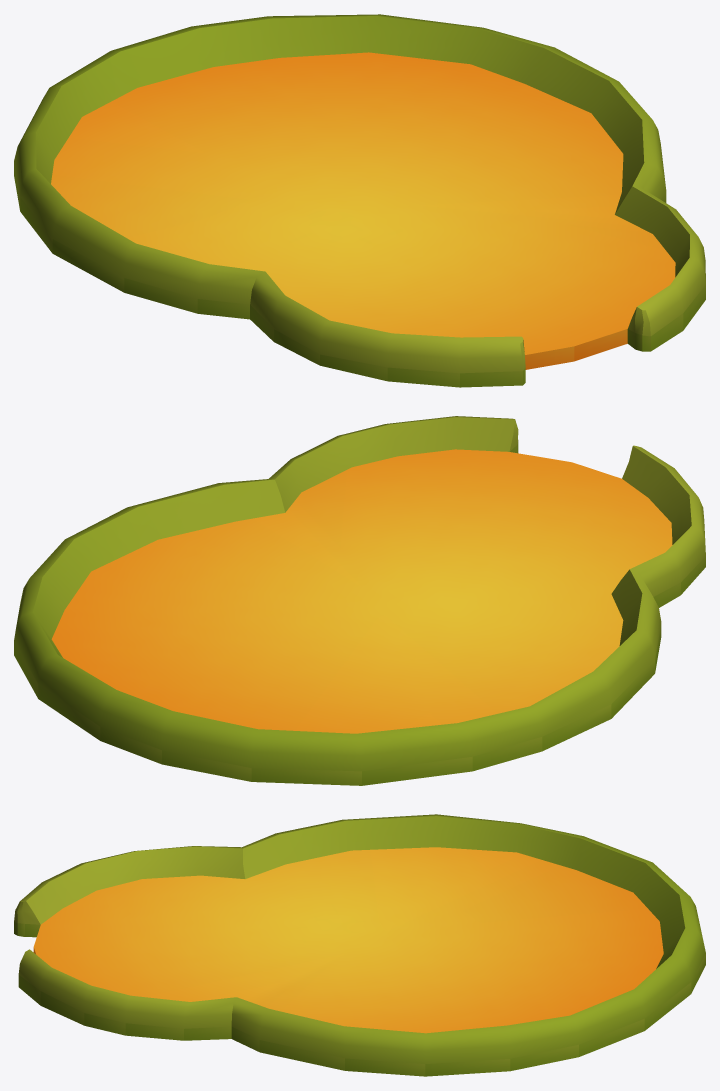
Rendered from SM_Y_01_Yard_11.fbx.
The picture shows the model from 3 angles, top to bottom: view 1: azimuth 30°, elevation 25°; view 2: azimuth 150°, elevation 25°; view 3: azimuth 270°, elevation 25°; orthographic projection. The views are drawn at different scales.
Visible parts, largest first — view 1: SM_Y_01_Yard_11; view 2: SM_Y_01_Yard_11; view 3: SM_Y_01_Yard_11.
Boxes of the visible parts, box(x1,y1,x2,y2) form: SM_Y_01_Yard_11: box(14, 14, 705, 387); SM_Y_01_Yard_11: box(14, 416, 705, 785); SM_Y_01_Yard_11: box(14, 814, 705, 1076).
Size of the model in its own units: 3007 by 226 by 3797.
